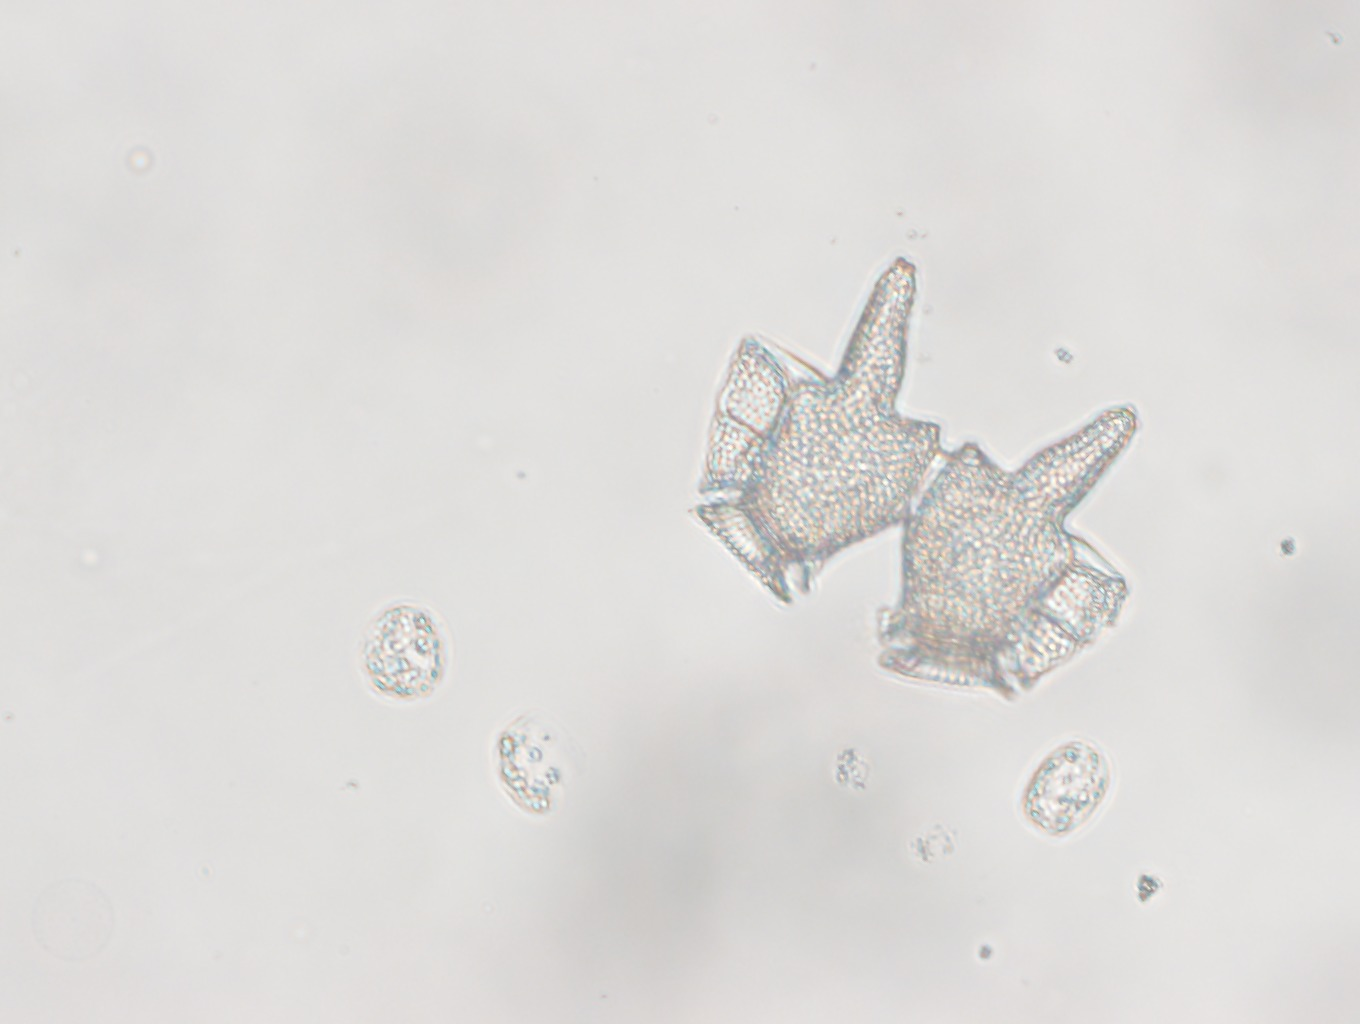dinophysis caudata: (692, 251, 1142, 703)
